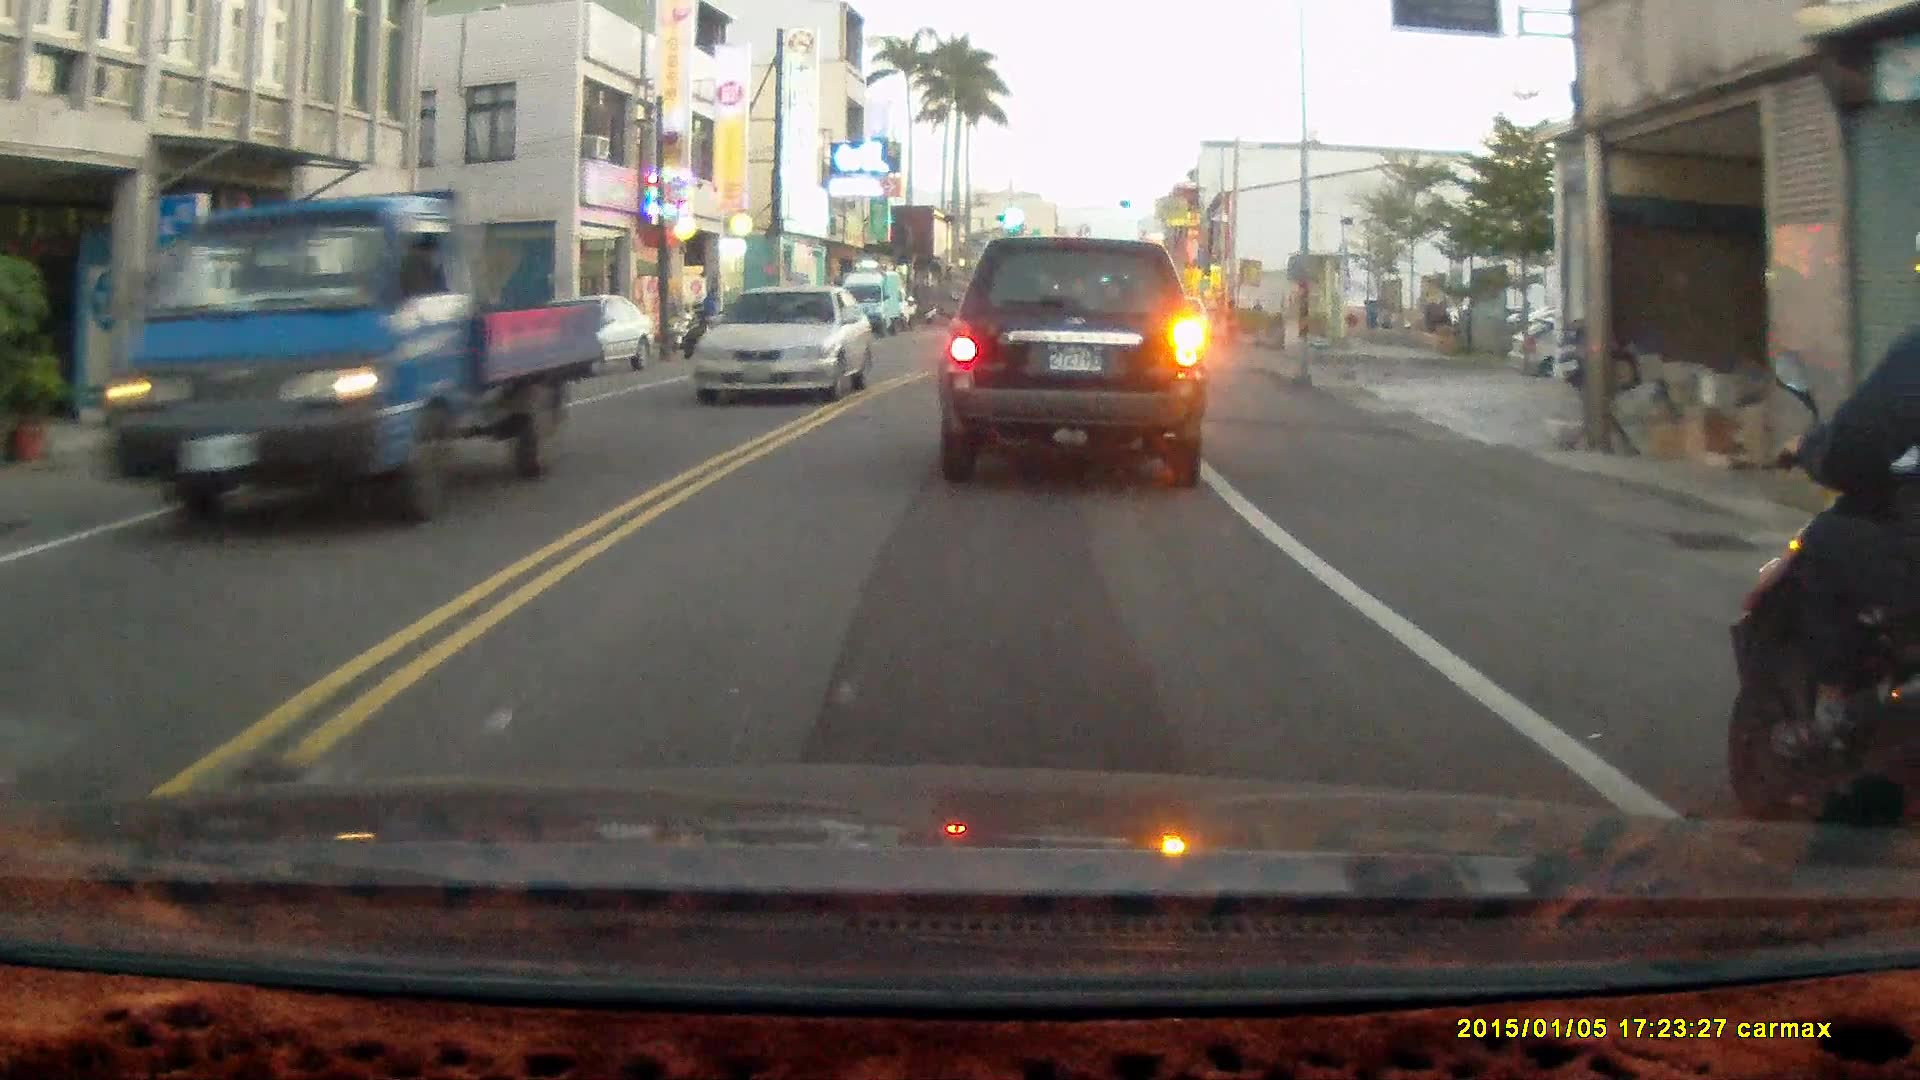pedestrian: (699, 283, 721, 339)
rider: (1731, 237, 1920, 906)
vehicle: (95, 189, 603, 533), (935, 237, 1207, 489), (694, 282, 876, 409), (1504, 311, 1694, 389), (515, 292, 662, 383), (833, 268, 914, 338)
